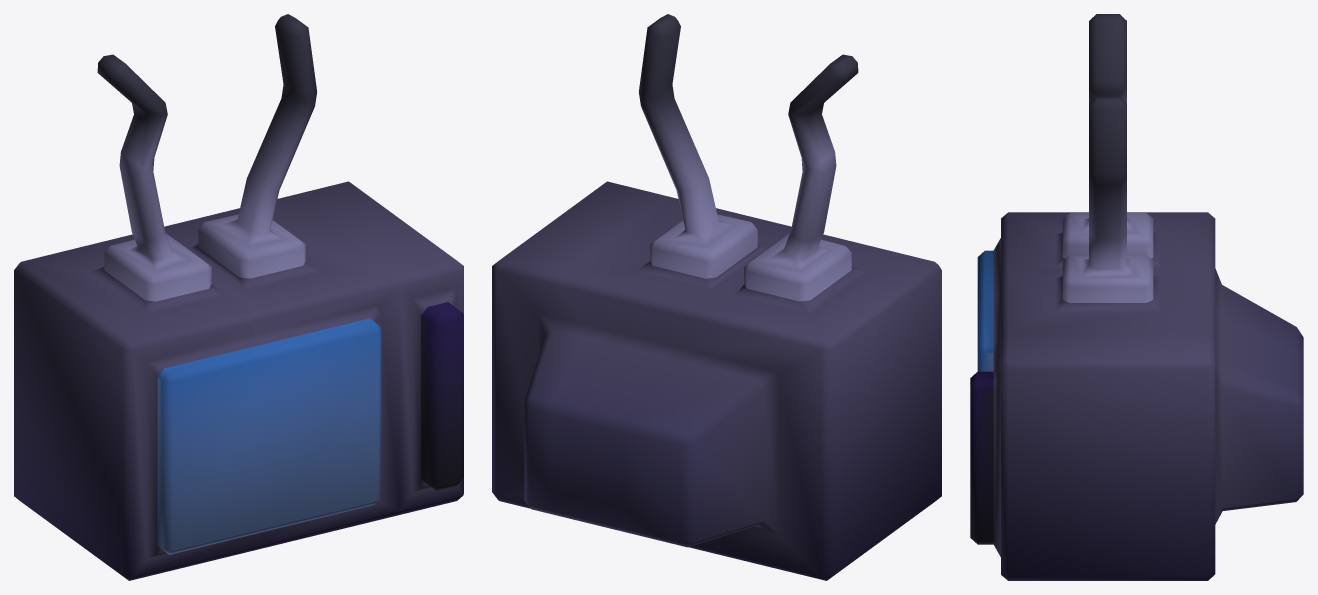
The picture shows the model from 3 angles, left to right: view 1: azimuth 30°, elevation 25°; view 2: azimuth 150°, elevation 25°; view 3: azimuth 270°, elevation 25°; orthographic projection. The views are drawn at different scales.
Visible parts, largest first — view 1: TV; view 2: TV; view 3: TV.
Boxes of the visible parts, x1,y1,x2,y2 form: TV: (14, 14, 463, 580); TV: (492, 14, 941, 580); TV: (970, 14, 1303, 580).
Size of the model in its own units: 149 by 196 by 136.
